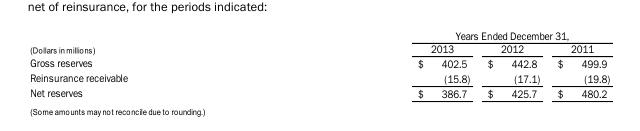table: (29, 28, 609, 99)
table column: (29, 28, 272, 99), (272, 28, 478, 99), (478, 28, 547, 99), (547, 28, 609, 99)
table column header: (29, 28, 609, 55)
table row: (29, 55, 609, 70), (29, 70, 609, 85), (29, 41, 609, 55), (29, 85, 609, 99), (29, 28, 609, 41)
table spanning cell: (29, 28, 272, 55), (272, 28, 609, 41)
